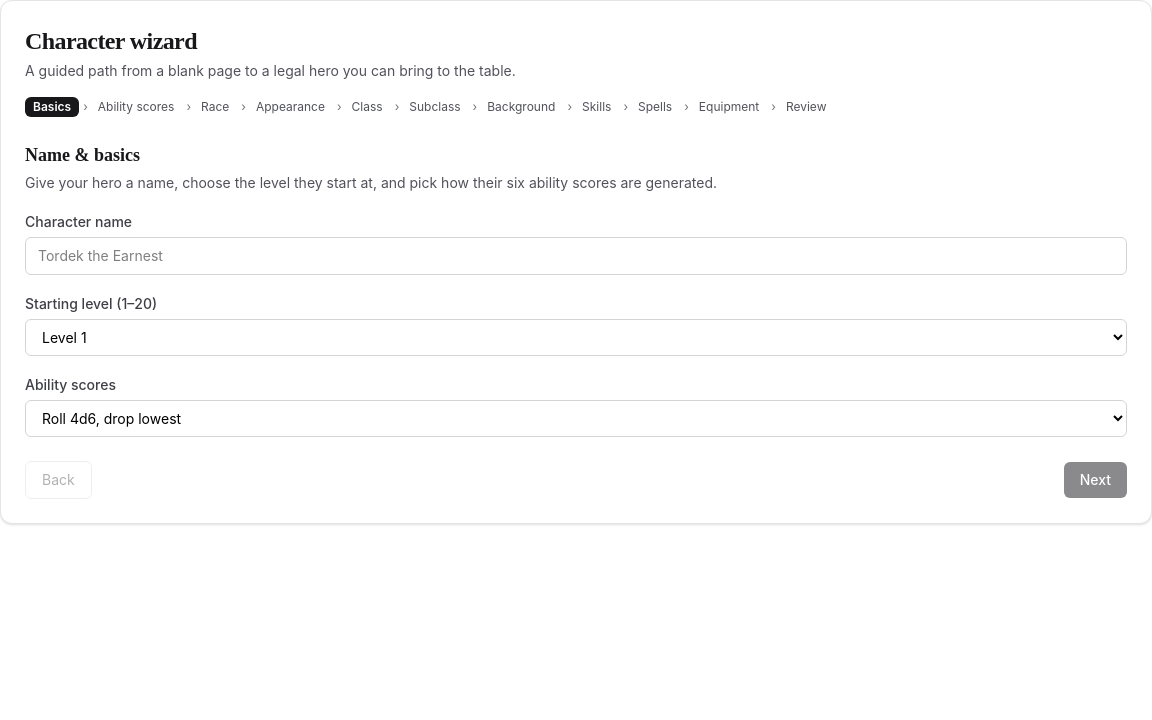
it: CharacterWizardPage › animates then finalizes a single ability from the server roll
The width and height of the screenshot is (1152, 720).
In the field labelled "Character name": {"x": 576, "y": 256} [25,237,1127,275], type "Tordek"
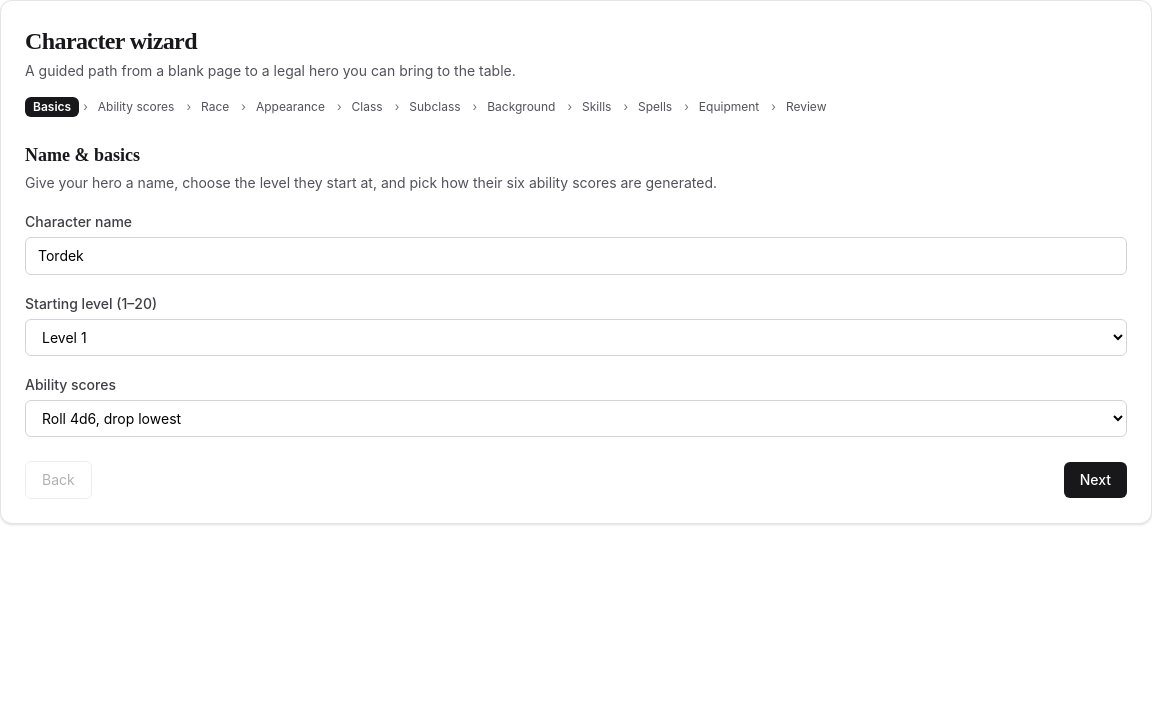
Click the button "Next": {"x": 1095, "y": 480} [1064,462,1127,498]
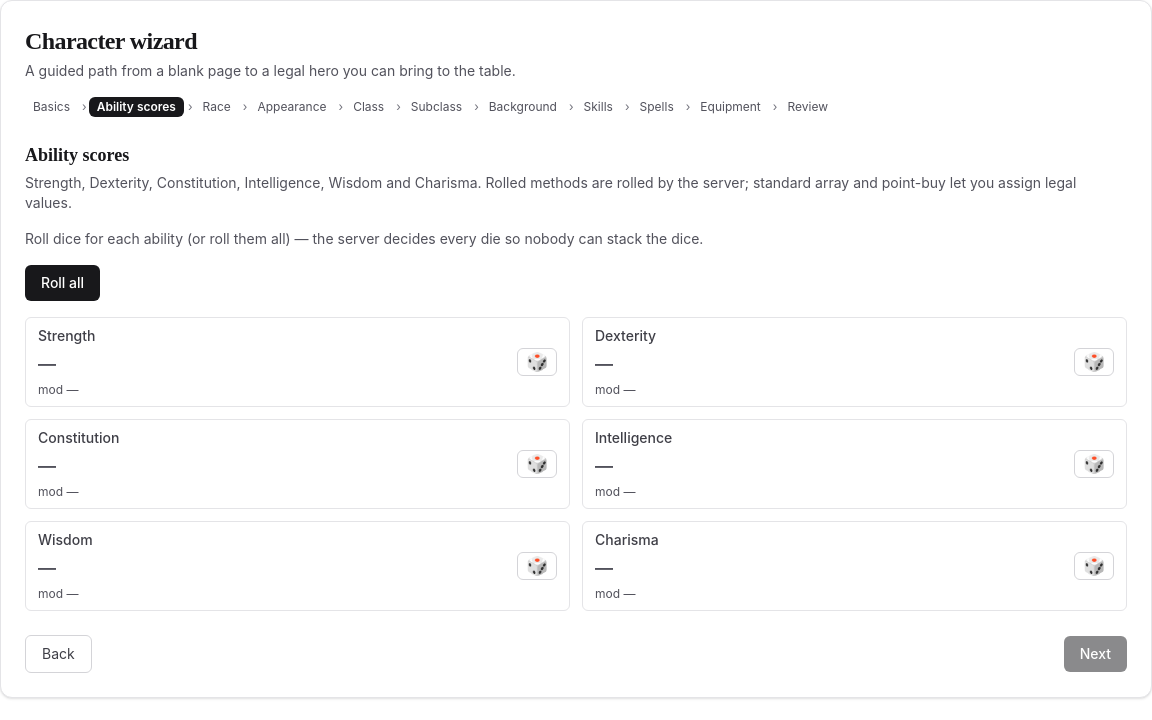
Click the button named "Roll Strength": {"x": 537, "y": 362} [517,348,557,376]
Wait 2000 ms
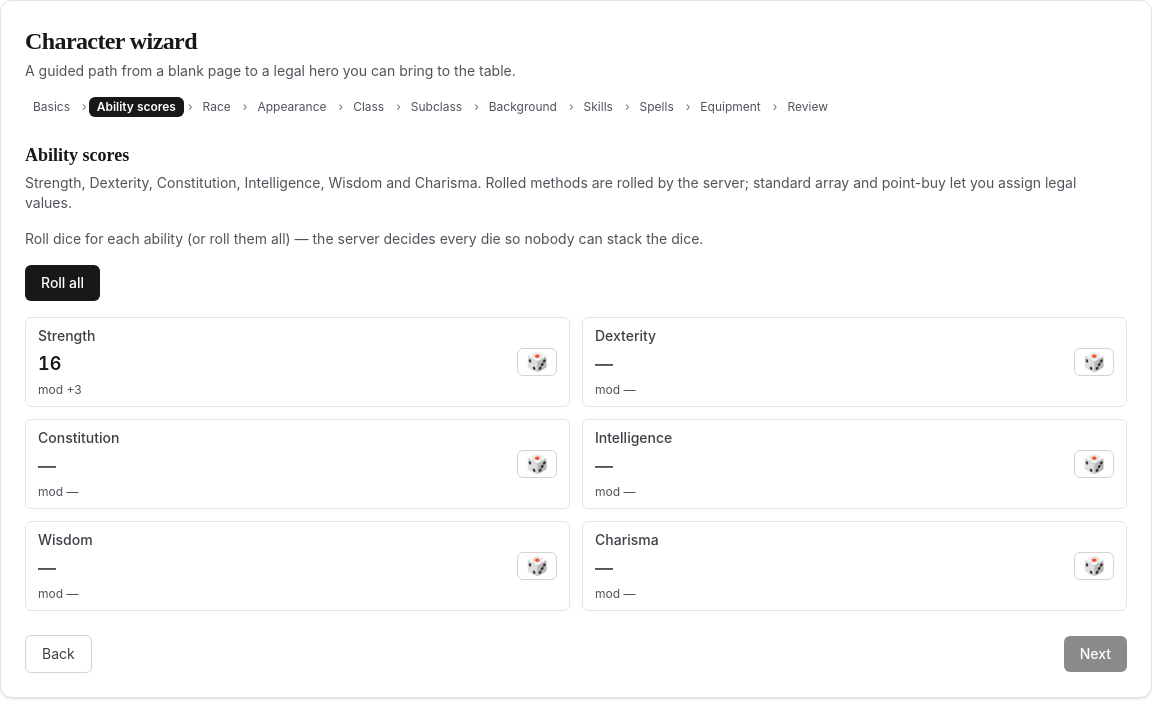
Now the button "Next" is disabled, box [1064,636,1127,672]
Now the text with test id "score-strength" reads "16", box [38,353,61,374]
